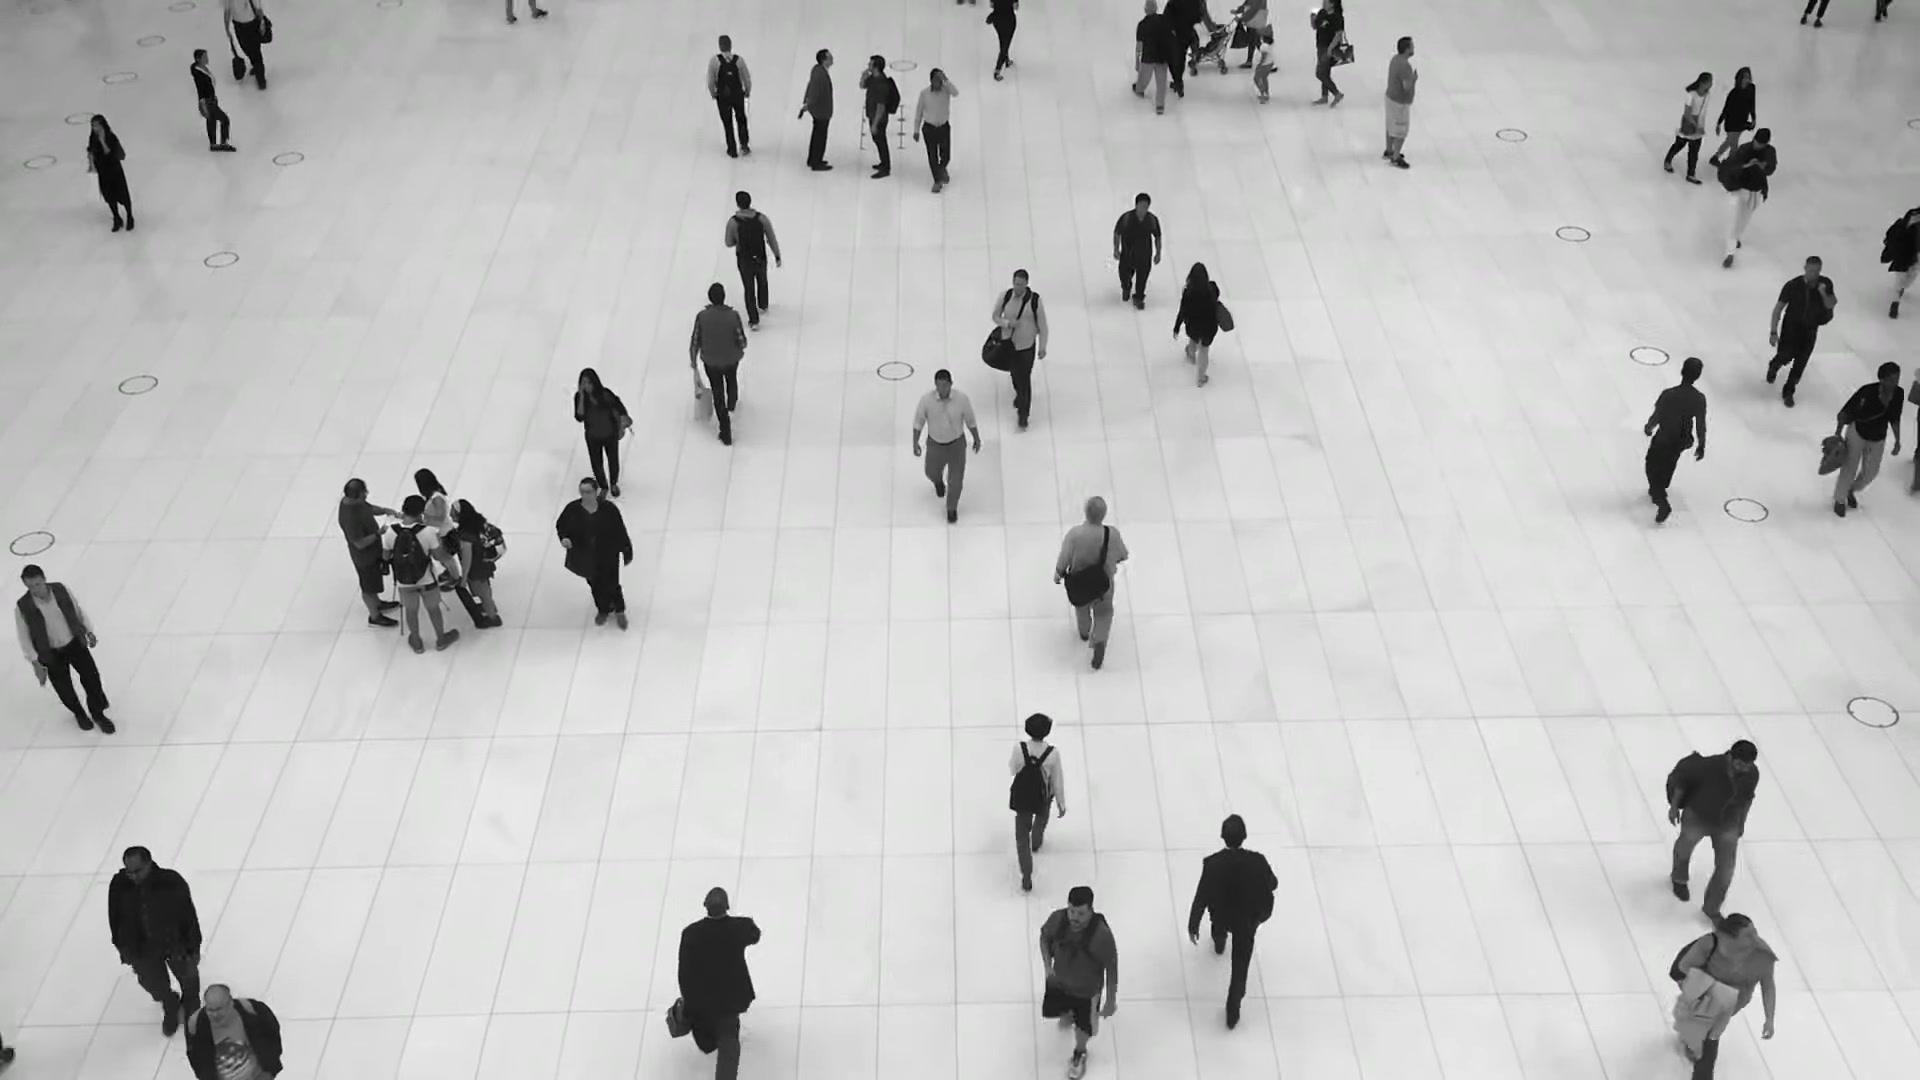person: (109, 846, 206, 1059), (661, 887, 762, 1079), (1186, 815, 1278, 1024), (15, 564, 116, 741), (1662, 739, 1758, 921), (1667, 911, 1773, 1065), (1038, 882, 1120, 1080), (555, 477, 639, 638), (1827, 361, 1903, 528), (1054, 495, 1129, 656), (382, 494, 458, 653), (1641, 356, 1711, 515), (1765, 254, 1837, 406), (913, 366, 981, 518), (182, 980, 284, 1079), (1007, 711, 1067, 875), (338, 477, 400, 629), (690, 283, 748, 445), (992, 269, 1049, 427), (1714, 124, 1775, 265), (727, 193, 784, 334), (572, 368, 631, 488), (449, 498, 502, 628), (1109, 192, 1163, 312), (706, 36, 754, 163), (1663, 69, 1716, 183), (913, 66, 959, 196), (1172, 263, 1219, 389), (86, 113, 134, 232), (413, 468, 459, 592), (1132, 0, 1178, 113), (187, 48, 236, 153), (858, 54, 900, 180), (1382, 34, 1420, 168), (1706, 65, 1754, 165), (799, 48, 835, 171), (1308, 0, 1346, 108), (1239, 0, 1278, 69), (1251, 32, 1275, 104)
